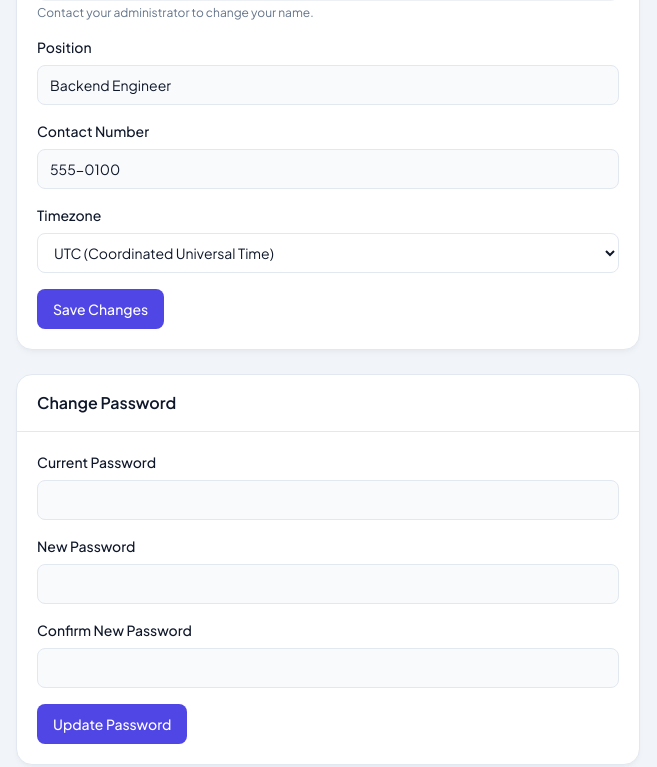
Scenario: ProfilePage › changes the password and clears the form on success
(page scrolled)
Type "old-password" into the password field labelled "Current Password". click: x=328, y=500
box: left=37, top=480, right=619, bottom=520
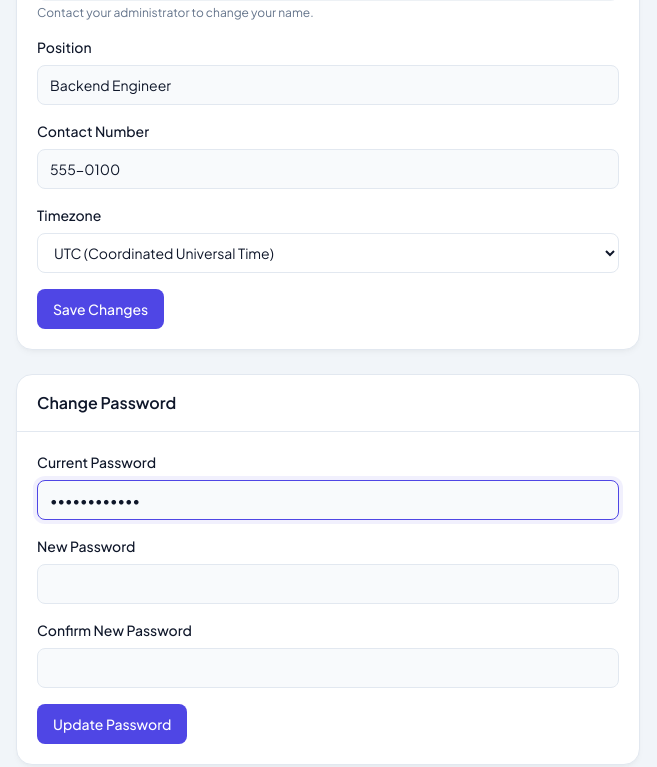
Type "new-password" into the password field labelled "New Password". click: x=328, y=584
box: left=37, top=564, right=619, bottom=604
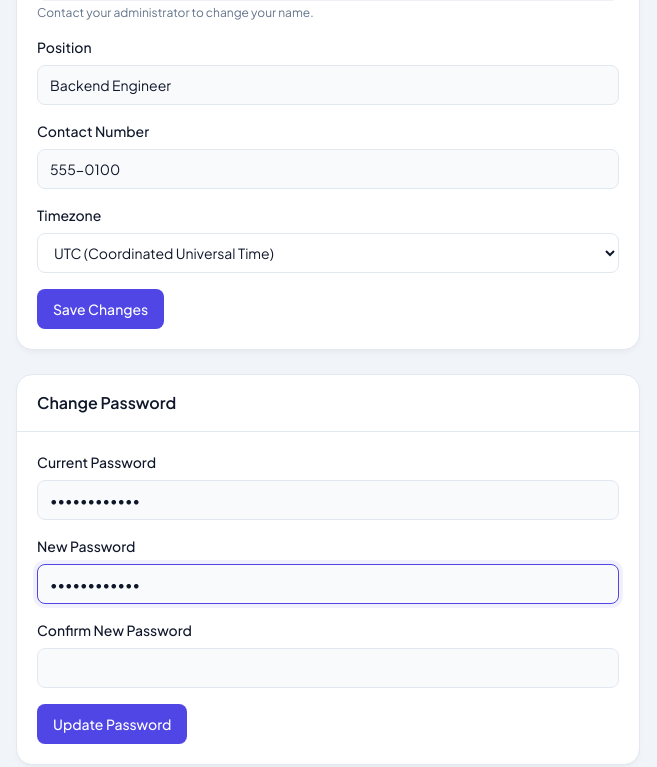
Type "new-password" into the password field labelled "Confirm New Password". click: x=328, y=668
box: left=37, top=648, right=619, bottom=688
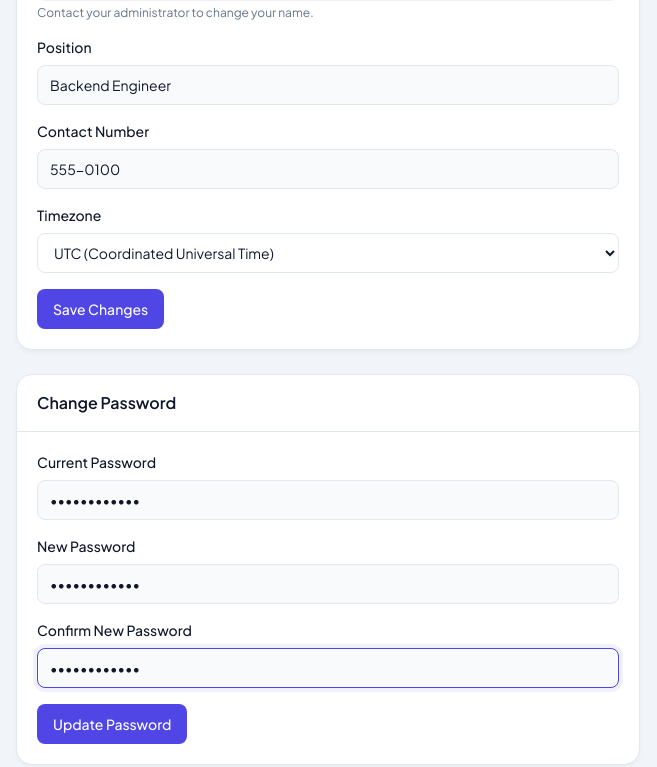
Click the button "Update Password". click: x=112, y=724
box: left=37, top=704, right=188, bottom=744
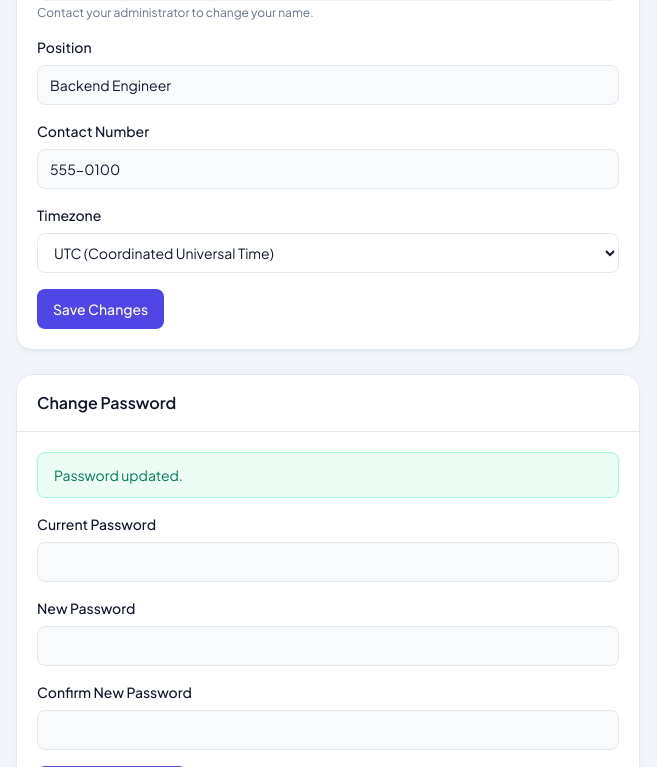
Expected: the text "Password updated." is shown, left=37, top=452, right=619, bottom=498
Expected: the password field labelled "Current Password" is empty, left=37, top=542, right=619, bottom=582
